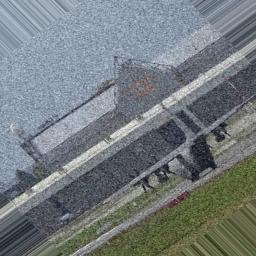Airplane: (129, 98, 251, 192)
